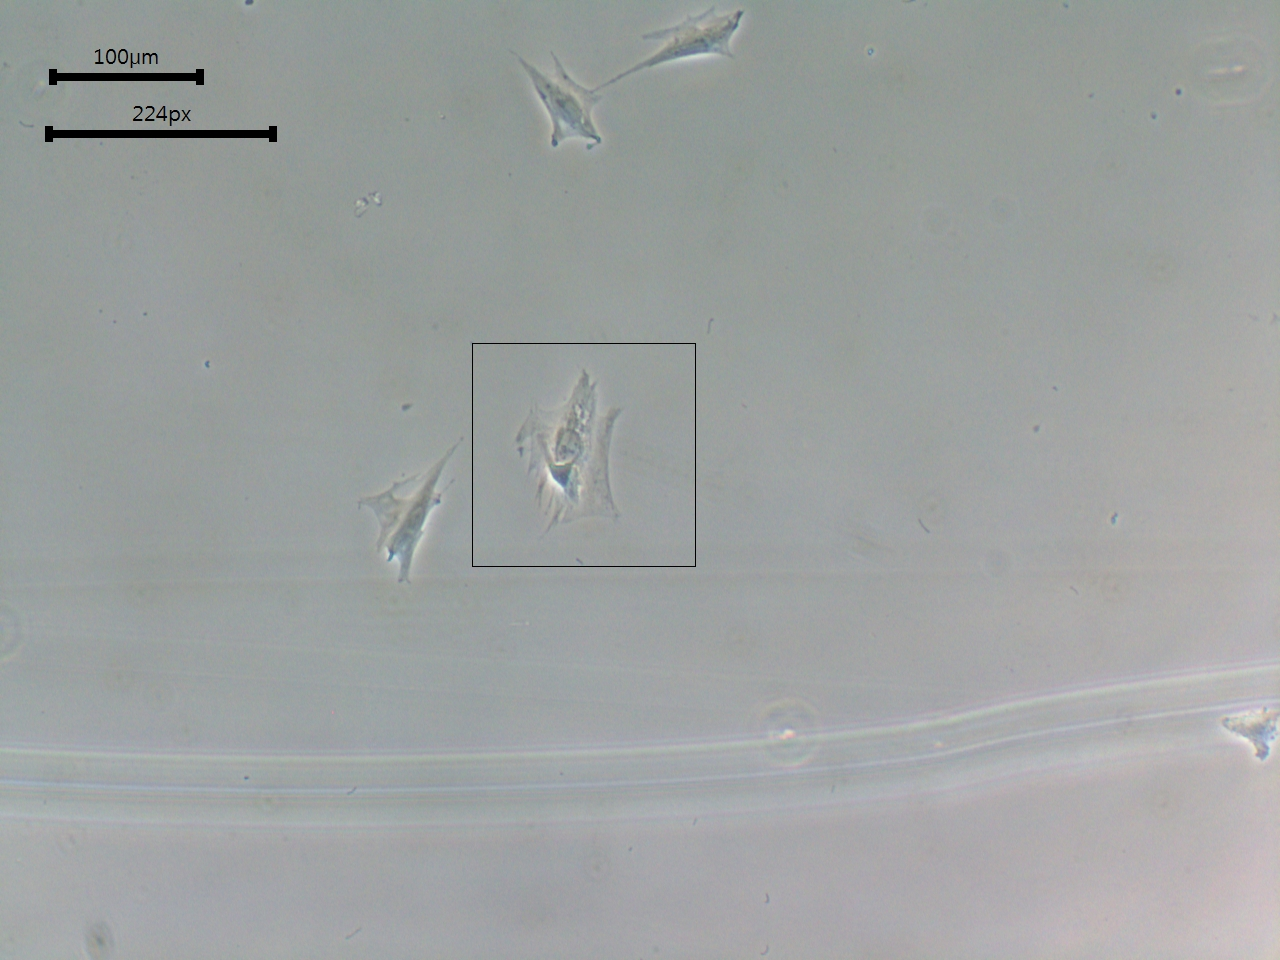dividing: (383, 432, 468, 591)
medium-spread: (505, 353, 651, 547), (352, 465, 416, 546)
small-polygonal: (498, 36, 610, 169)
